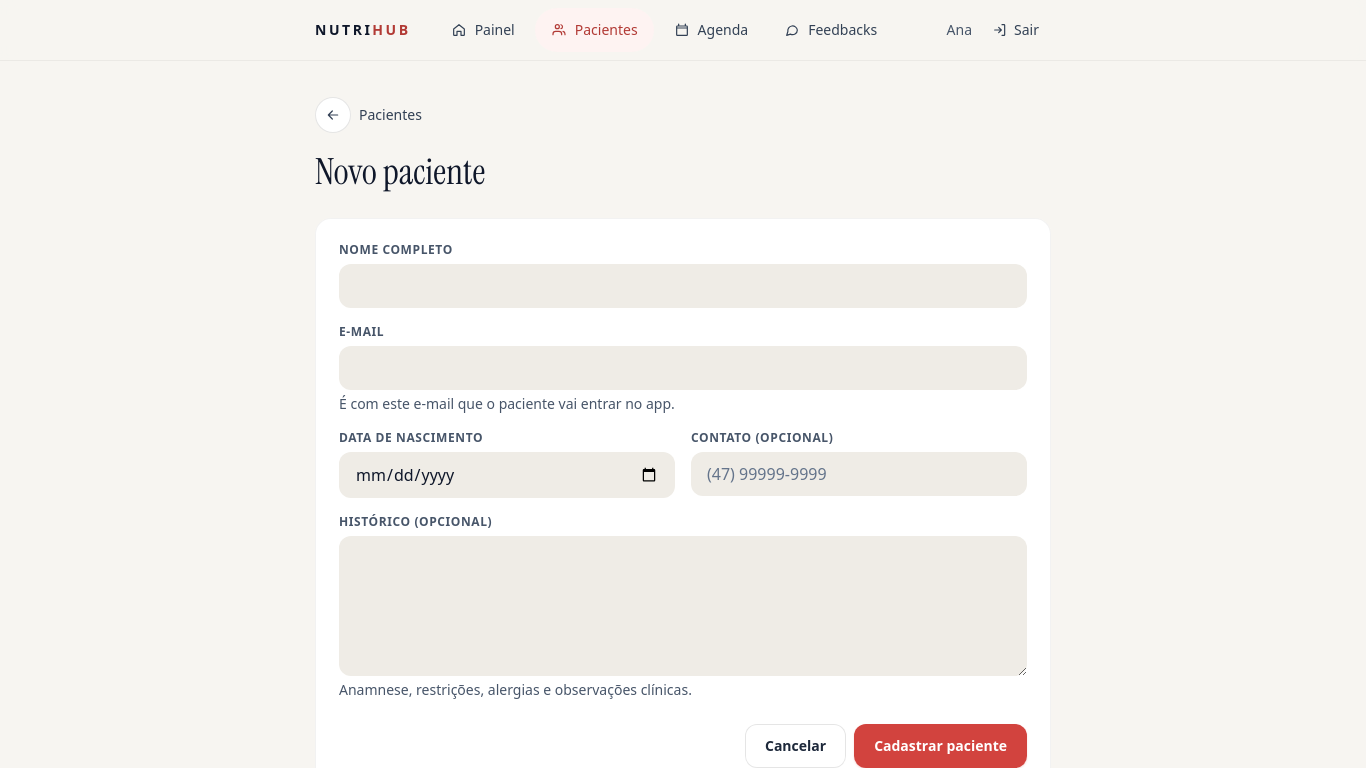
Test case: NovoPaciente (RF-03) › mostra o conflito de e-mail já cadastrado
This screenshot has width=1366, height=768.
Click the button "Cadastrar paciente" at (941, 746), box x1=854 y1=724 x2=1027 y2=767
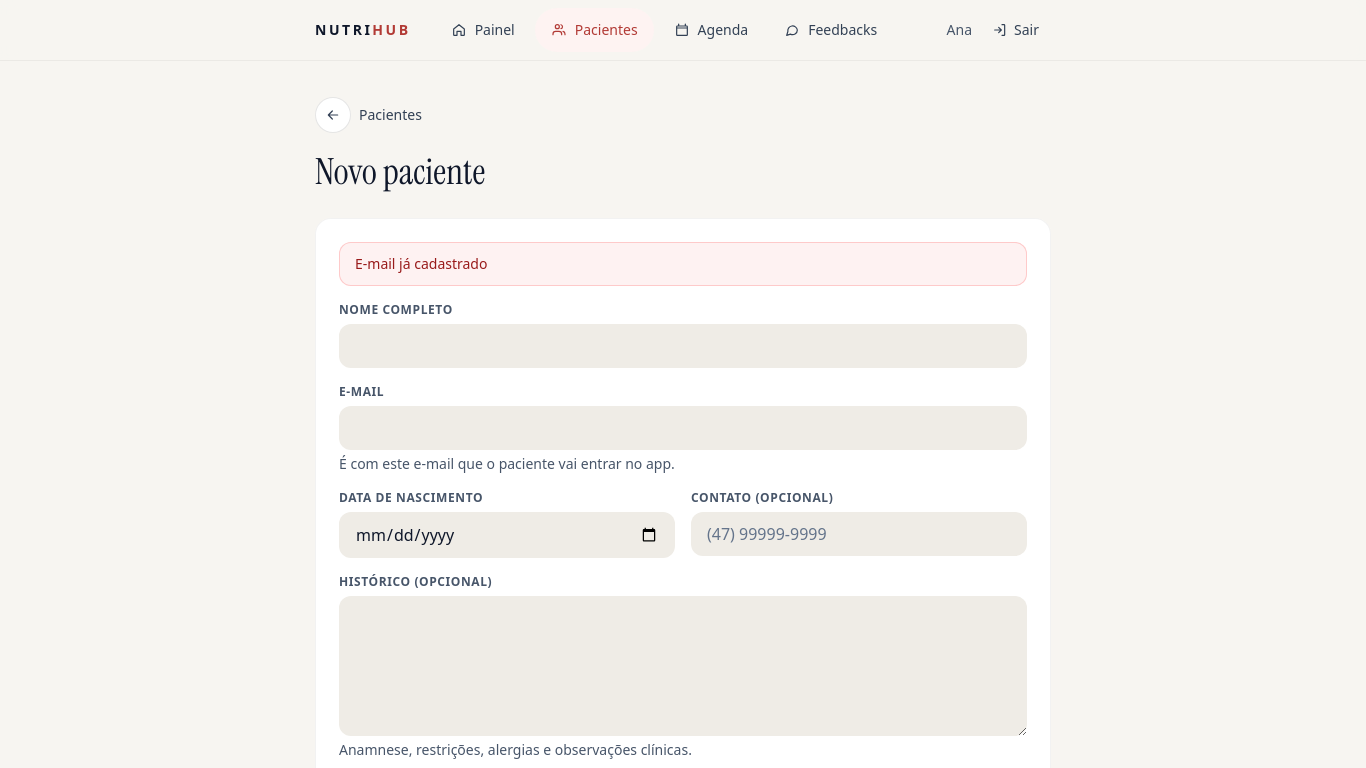
Expected: the message reads "E-mail já cadastrado", x1=355 y1=254 x2=488 y2=273
